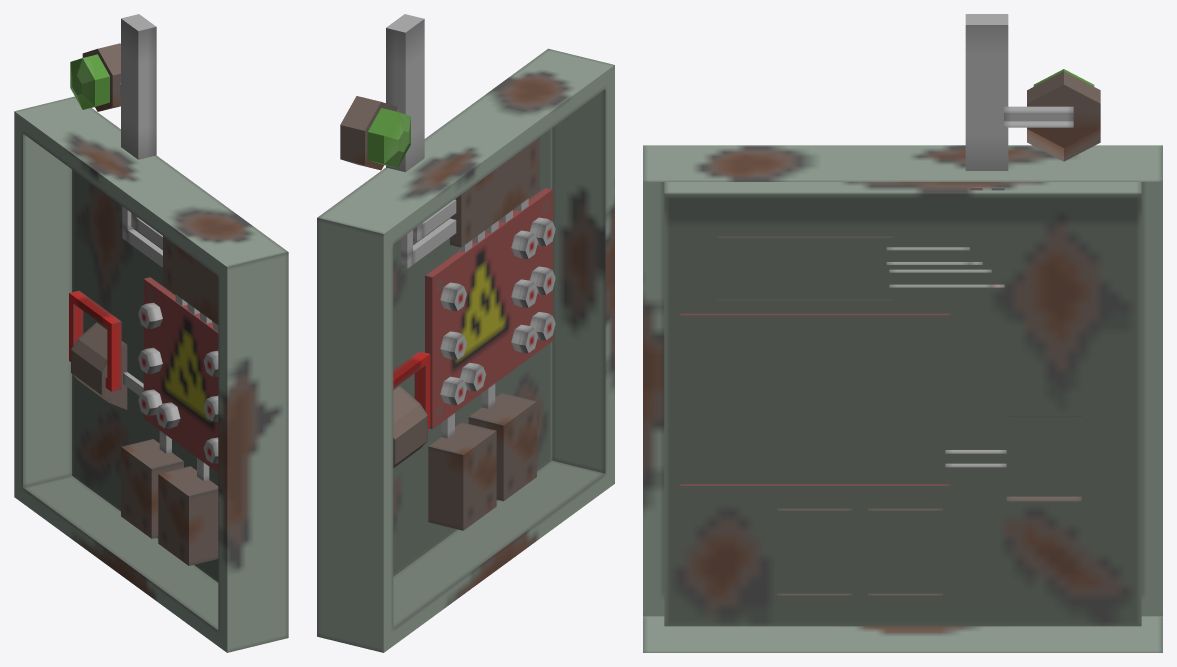
File: obj_powerFuseBox.fbx
3 renders of one model, left to right at view 1: azimuth 30°, elevation 25°; view 2: azimuth 150°, elevation 25°; view 3: azimuth 270°, elevation 25°, orthographic. The views are drawn at different scales.
Visible parts, largest first — view 1: obj_powerFuseBox, obj_powerFuseBoxLever; view 2: obj_powerFuseBox, obj_powerFuseBoxLever; view 3: obj_powerFuseBox.
Boxes of the visible parts, x1,y1,x2,y2 form: obj_powerFuseBox: (14,14,288,652); obj_powerFuseBoxLever: (69,290,121,391); obj_powerFuseBox: (317,14,614,652); obj_powerFuseBoxLever: (393,351,430,428); obj_powerFuseBox: (643,14,1162,652).
Size of the model in its own units: 10.67 by 80 by 60.
